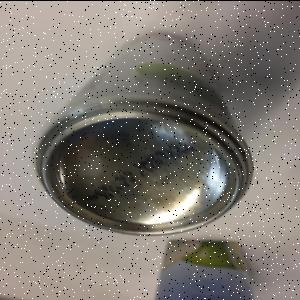Can: (34, 33, 256, 237)
